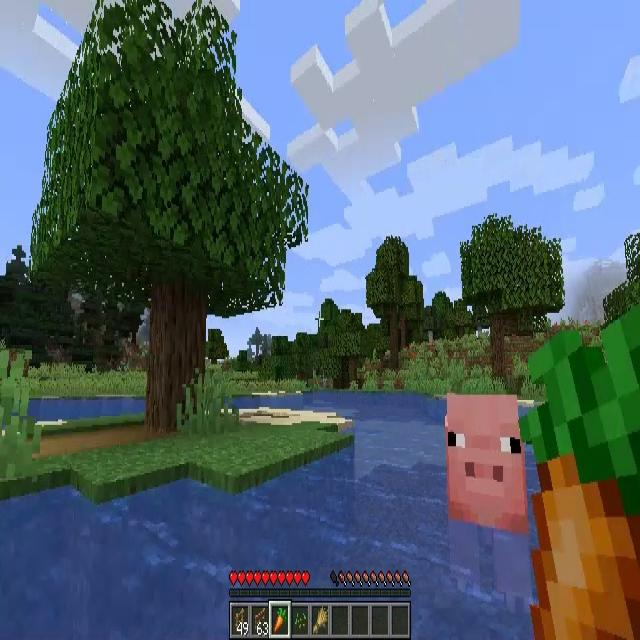pig: (446, 396, 530, 610)
